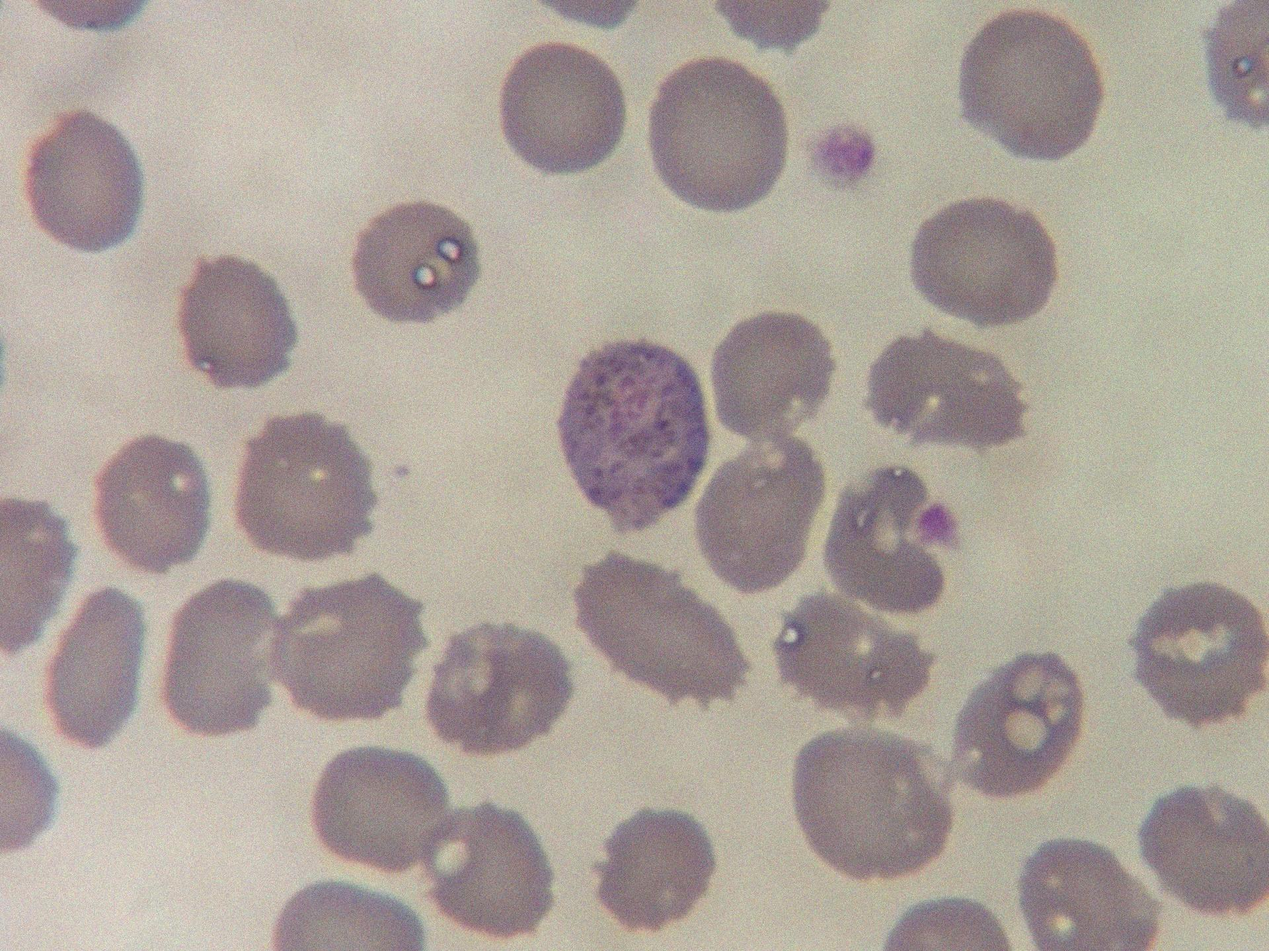Infected: (562, 340, 711, 536)
Uninfected: (573, 547, 746, 709), (791, 719, 949, 881), (271, 576, 420, 722), (650, 56, 787, 212), (961, 10, 1104, 155), (423, 624, 573, 758), (952, 648, 1082, 800), (159, 578, 289, 728), (238, 413, 372, 558), (1137, 580, 1269, 725), (824, 463, 950, 614), (696, 441, 820, 590), (311, 741, 452, 872), (868, 336, 1025, 453), (912, 195, 1055, 323), (176, 252, 304, 393), (778, 598, 930, 716), (40, 580, 148, 744), (500, 43, 630, 174), (1137, 787, 1269, 916), (423, 803, 554, 932), (1011, 838, 1153, 951), (99, 426, 210, 570), (353, 199, 477, 326), (714, 311, 834, 440), (24, 120, 142, 249), (595, 803, 715, 927)
